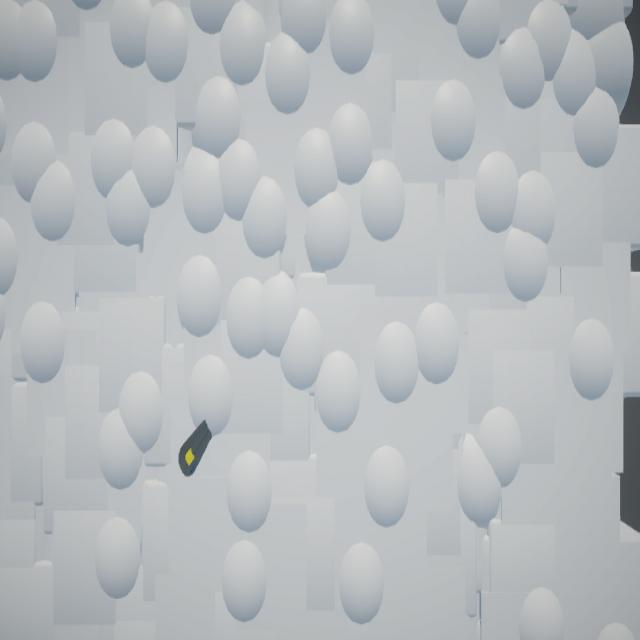handle_folk: (180, 420, 214, 478)
